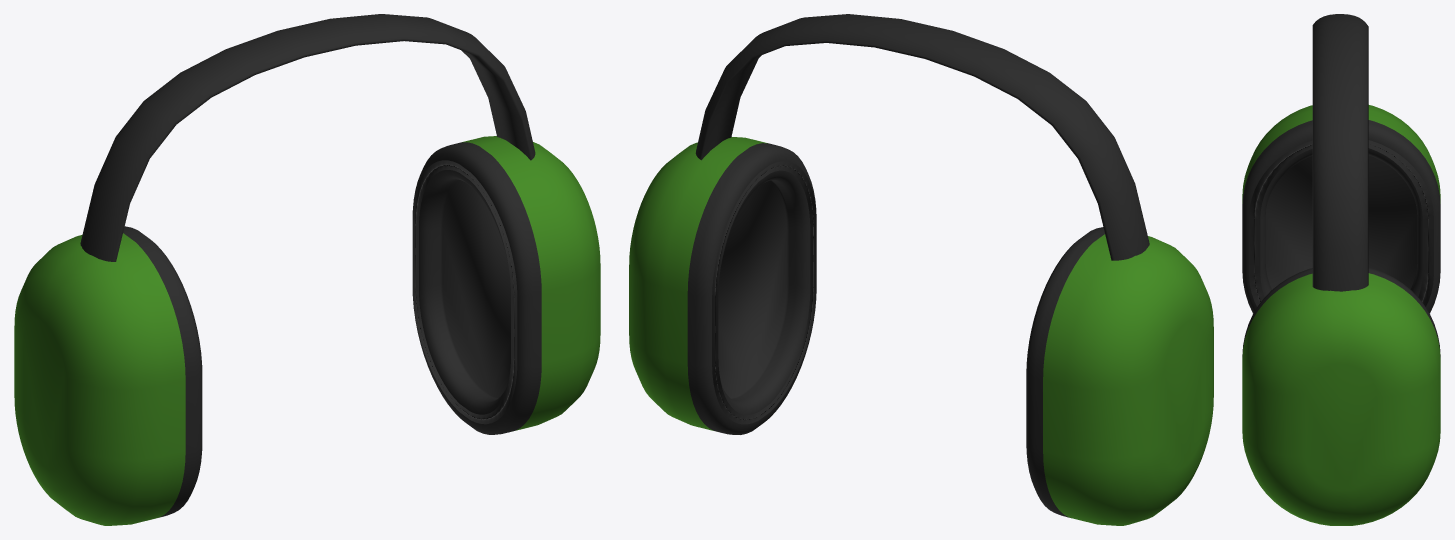
Rendered from earDefenders.fbx.
3 renders of one model, left to right at view 1: azimuth 30°, elevation 25°; view 2: azimuth 150°, elevation 25°; view 3: azimuth 270°, elevation 25°, orthographic. The views are drawn at different scales.
Parts seen in each view (by area): view 1: Headband; view 2: Headband; view 3: Headband.
Part boxes in pixels (x1,y1,x2,y2): Headband: (14,14,600,525); Headband: (629,14,1213,525); Headband: (1242,14,1440,525).
Size of the model in its own units: 26.46 by 20.98 by 9.77.
